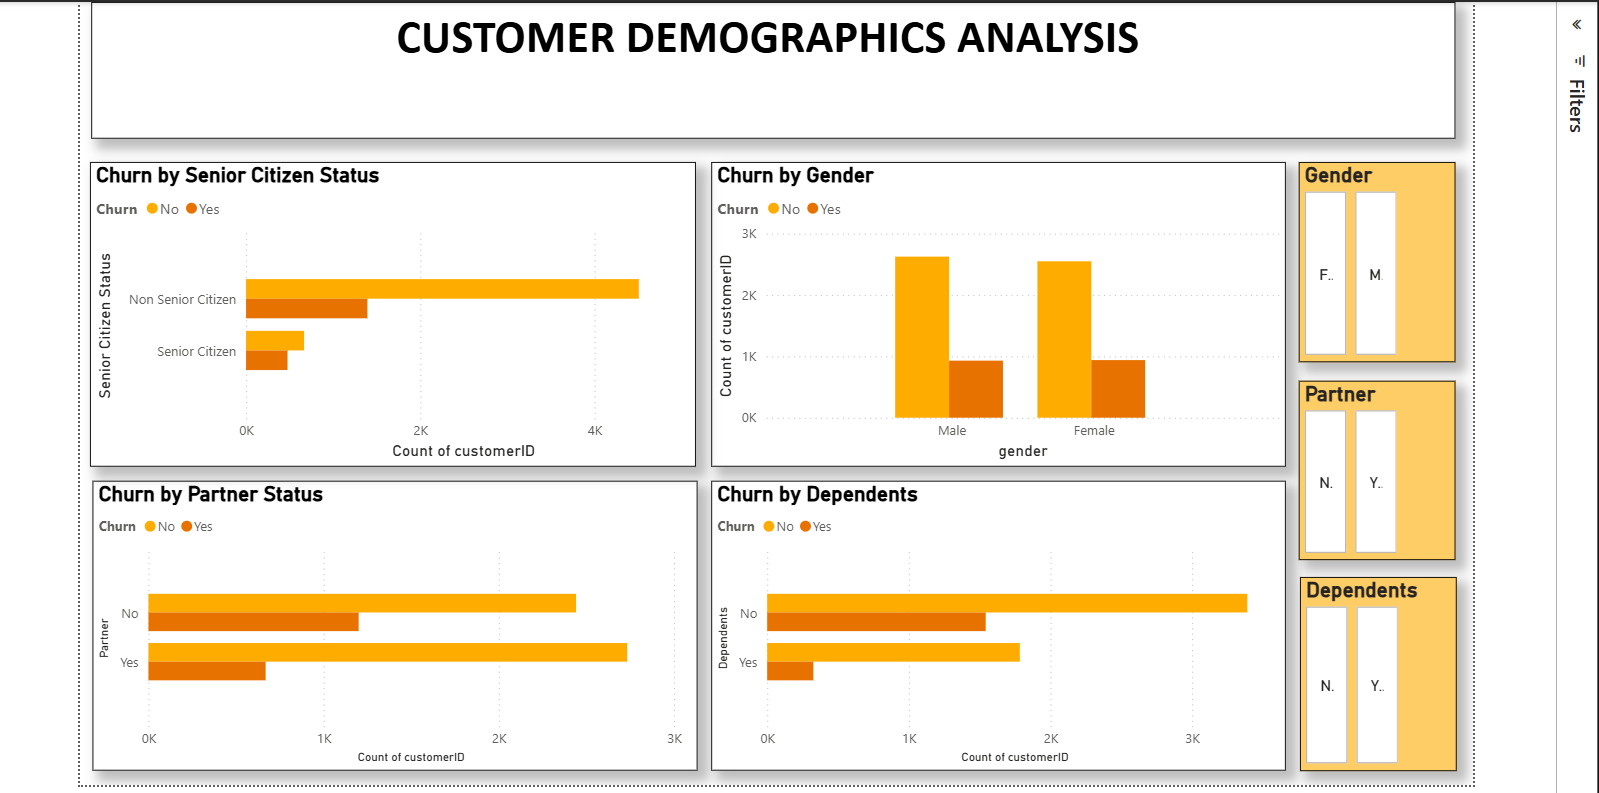

The dashboard page shown, as its layout file describes it:
{"tool":"powerbi","page":{"name":"Page 2","canvas":[1280,720],"ordinal":1},"visuals":[{"type":"clusteredColumnChart","title":"Churn by Gender","fields":{"Category":["Churn_CSV.gender"],"Series":["Churn_CSV.Churn"],"Y":["CountNonNull(Churn_CSV.customerID)"]},"box":[580.4,146.8,528.3,279.9],"z":0},{"type":"clusteredBarChart","title":"Churn by Partner Status","fields":{"Category":["Churn_CSV.Partner"],"Y":["CountNonNull(Churn_CSV.customerID)"],"Series":["Churn_CSV.Churn"]},"box":[11,440.5,555.7,266.2],"z":1000},{"type":"clusteredBarChart","title":"Churn by Dependents","fields":{"Category":["Churn_CSV.Dependents"],"Y":["CountNonNull(Churn_CSV.customerID)"],"Series":["Churn_CSV.Churn"]},"box":[580.4,440.5,528.3,266.2],"z":2000},{"type":"textbox","box":[10.5,0,1253.5,125.6],"z":3000},{"type":"advancedSlicerVisual","title":"Gender","fields":{"Values":["Churn_CSV.gender"]},"box":[1119.7,146.8,144.1,183.9],"z":4000},{"type":"advancedSlicerVisual","fields":{"Values":["Churn_CSV.Partner"]},"box":[1119.7,348.5,144.1,164.7],"z":5000},{"type":"advancedSlicerVisual","fields":{"Values":["Churn_CSV.Dependents"]},"box":[1121.1,528.3,144.1,178.4],"z":6000},{"type":"clusteredBarChart","title":"Churn by Senior Citizen Status","fields":{"Category":["Churn_CSV.Senior Citizen Status"],"Series":["Churn_CSV.Churn"],"Y":["CountNonNull(Churn_CSV.customerID)"]},"box":[9.6,146.8,557.1,279.9],"z":7000}]}

Visuals, with their boxes in screenshot pixels (x1, y1, x2, y2):
"Churn by Gender" clusteredColumnChart: 708/159/1281/462
"Churn by Partner Status" clusteredBarChart: 91/477/693/766
"Churn by Dependents" clusteredBarChart: 708/477/1281/766
textbox: 90/0/1449/136
"Gender" advancedSlicerVisual: 1292/159/1449/358
advancedSlicerVisual - Churn_CSV.Partner: 1292/378/1449/556
advancedSlicerVisual - Churn_CSV.Dependents: 1294/572/1450/766
"Churn by Senior Citizen Status" clusteredBarChart: 90/159/693/462
